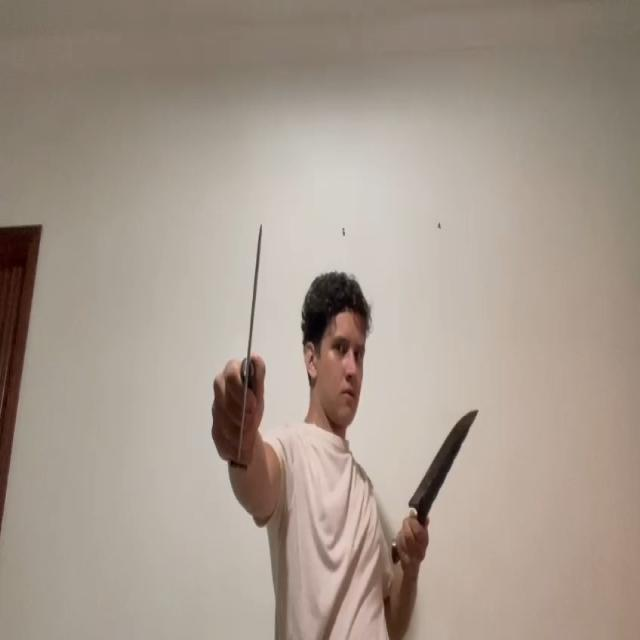knife: (406, 406, 478, 512), (236, 222, 264, 463)
